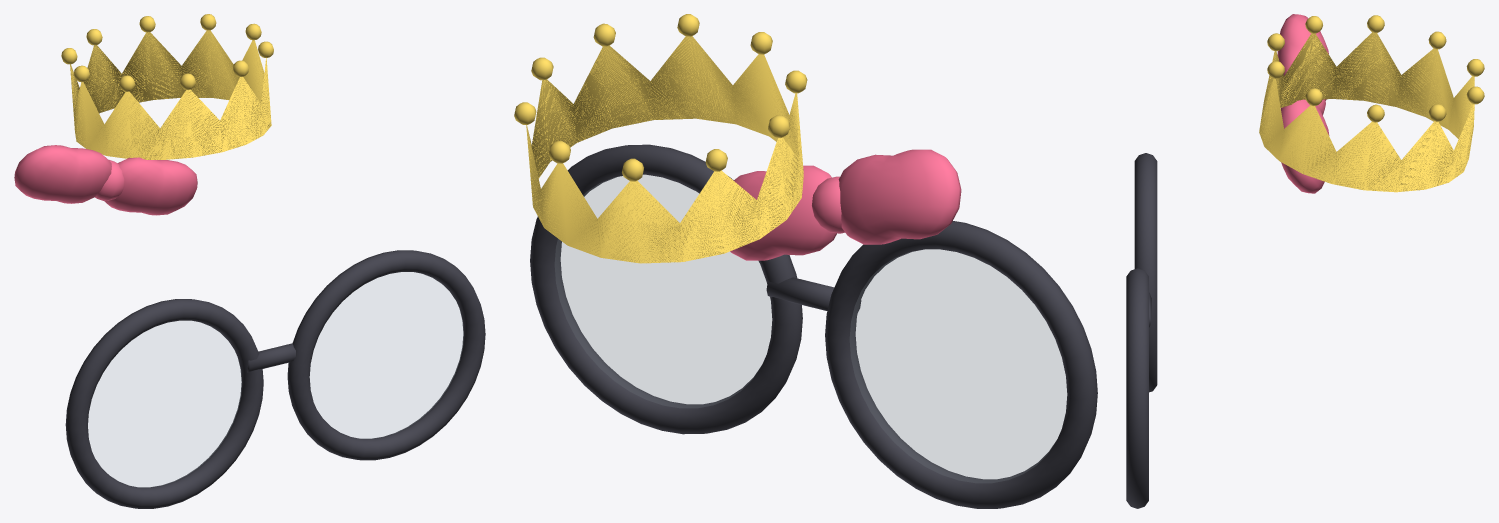
Rendered from gato_extras.glb.
The picture shows the model from 3 angles, left to right: view 1: azimuth 30°, elevation 25°; view 2: azimuth 150°, elevation 25°; view 3: azimuth 270°, elevation 25°; orthographic projection. The views are drawn at different scales.
Visible parts, largest first — view 1: acc_lentes_cristal, acc_lentes, acc_corona, acc_mono; view 2: acc_lentes_cristal, acc_lentes, acc_corona, acc_mono; view 3: acc_corona, acc_lentes, acc_mono.
Boxes of the visible parts, x1,y1,x2,y2 form: acc_lentes_cristal: [88, 272, 463, 487]; acc_lentes: [65, 250, 485, 508]; acc_corona: [61, 14, 273, 159]; acc_mono: [14, 145, 197, 215]; acc_lentes_cristal: [555, 175, 1066, 482]; acc_lentes: [530, 144, 1097, 508]; acc_corona: [514, 14, 807, 263]; acc_mono: [730, 149, 961, 260]; acc_corona: [1259, 15, 1484, 192]; acc_lentes: [1126, 153, 1157, 508]; acc_mono: [1277, 14, 1329, 193].
Bounding box in the file's own units: 0.508 × 0.433 × 0.3571.
